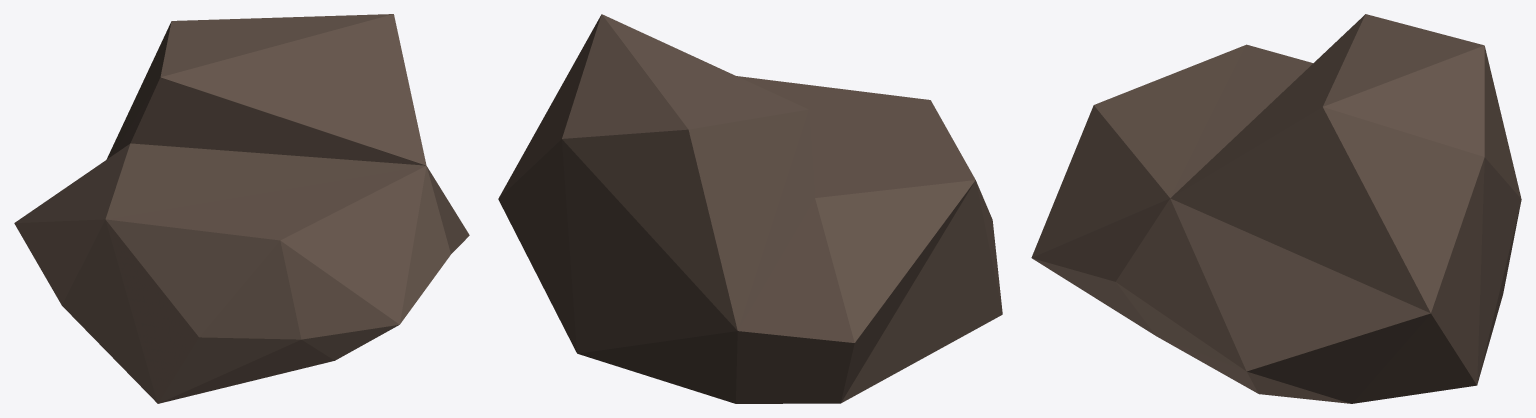
Rendered from Boulder-B12.fbx.
3 renders of one model, left to right at view 1: azimuth 30°, elevation 25°; view 2: azimuth 150°, elevation 25°; view 3: azimuth 270°, elevation 25°, orthographic. The views are drawn at different scales.
Parts seen in each view (by area): view 1: Boulder-B12; view 2: Boulder-B12; view 3: Boulder-B12.
Part boxes in pixels (x1,y1,x2,y2): Boulder-B12: (14, 14, 469, 403); Boulder-B12: (498, 14, 1002, 403); Boulder-B12: (1031, 14, 1521, 403).
Size of the model in its own units: 120 by 80.52 by 118.
